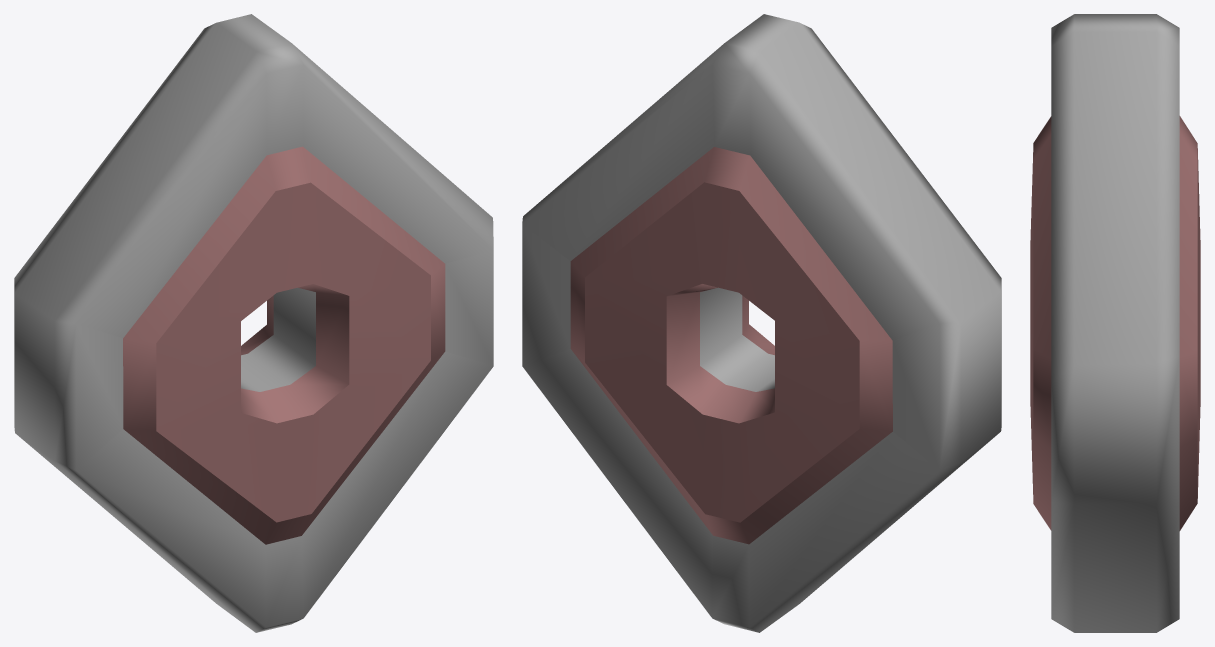
File: coin.fbx
3 views of the same model, side by side, from view 1: azimuth 30°, elevation 25°; view 2: azimuth 150°, elevation 25°; view 3: azimuth 270°, elevation 25° (orthographic). The views are drawn at different scales.
Visible parts, largest first — view 1: pCube1; view 2: pCube1; view 3: pCube1.
Boxes of the visible parts, box(x1,y1,x2,y2) form: pCube1: box(14, 14, 493, 632); pCube1: box(522, 14, 1001, 632); pCube1: box(1030, 14, 1200, 632).
Size of the model in its own units: 1.12 by 1.42 by 0.365.
